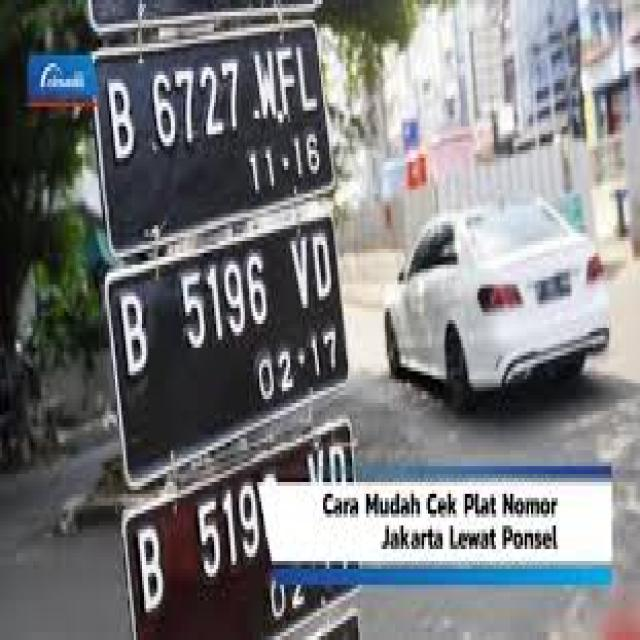license-plat: (97, 208, 354, 497)
